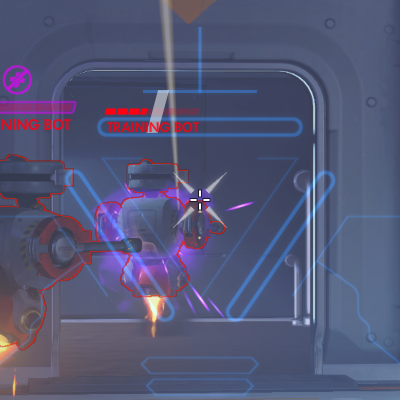hpbar: (104, 107, 200, 116), (1, 103, 72, 112)
